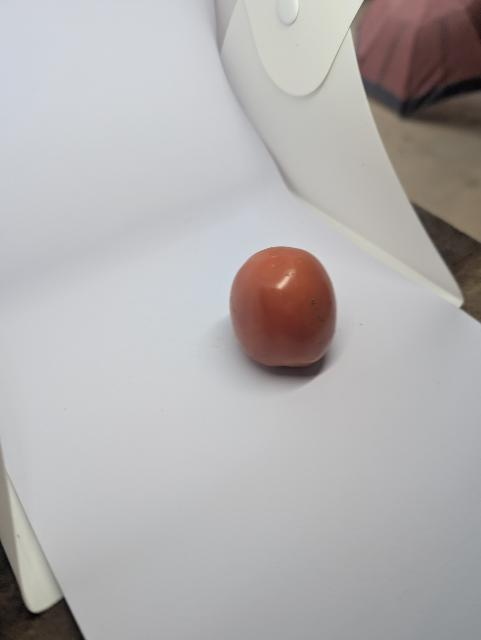red: (219, 232, 379, 391)
